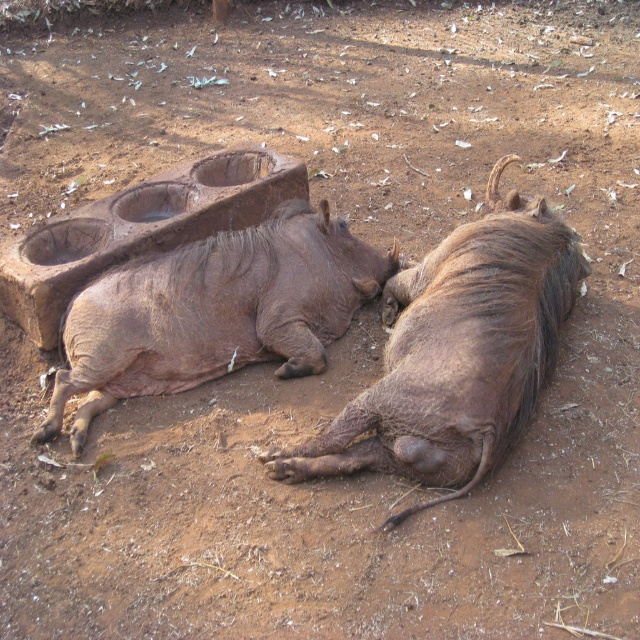Pig: (258, 154, 593, 540), (29, 198, 403, 458)
